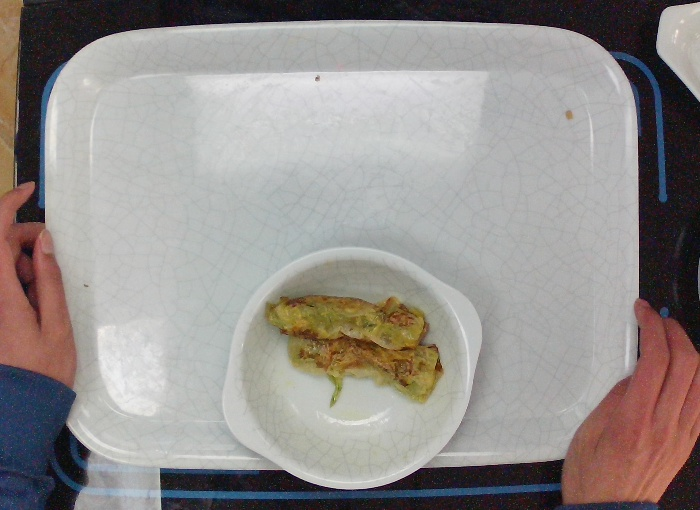JYsf-Shuang_Er_Wan: (217, 242, 484, 492)
